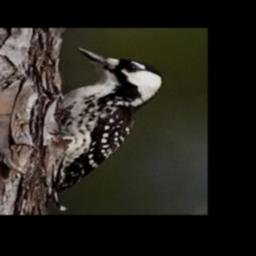Woodpecker: (41, 46, 168, 192)
